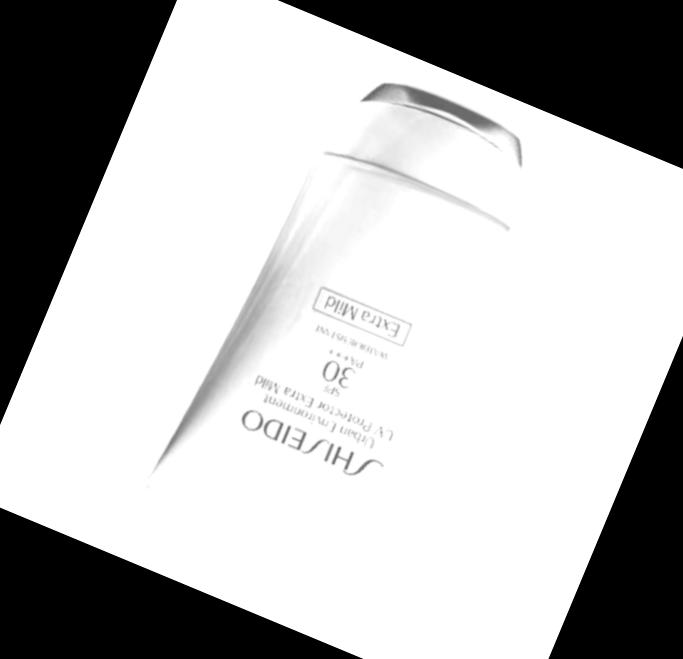cosmetic: (138, 44, 581, 600)
